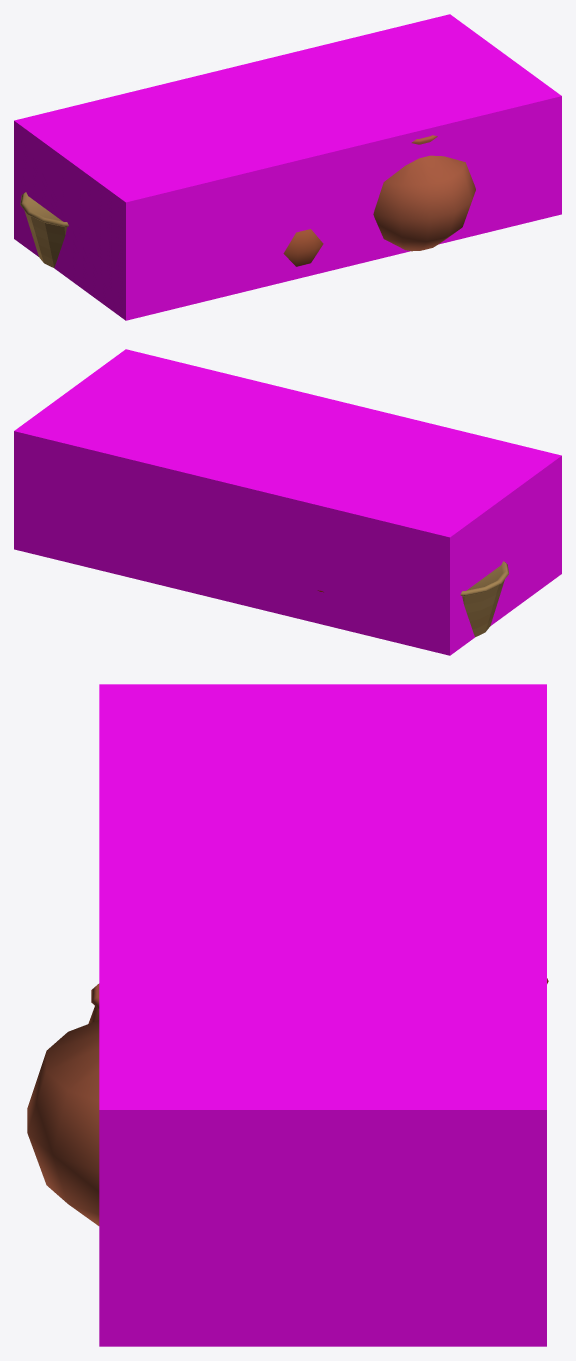
File: PRP_Storage_Set_A.glb
3 views of the same model, one above another, from view 1: azimuth 30°, elevation 25°; view 2: azimuth 150°, elevation 25°; view 3: azimuth 270°, elevation 25° (orthographic). The views are drawn at different scales.
Parts seen in each view (by area): view 1: COL_Group, PRP_Storage_Set_A_Mesh; view 2: COL_Group, PRP_Storage_Set_A_Mesh; view 3: COL_Group, PRP_Storage_Set_A_Mesh.
Part boxes in pixels (x1,y1,x2,y2): COL_Group: (14, 14, 561, 320); PRP_Storage_Set_A_Mesh: (20, 135, 475, 267); COL_Group: (14, 349, 561, 655); PRP_Storage_Set_A_Mesh: (317, 561, 508, 637); COL_Group: (99, 684, 546, 1346); PRP_Storage_Set_A_Mesh: (27, 978, 548, 1225).
Bounding box in the file's own units: 2.82 × 0.7625 × 1.4.
